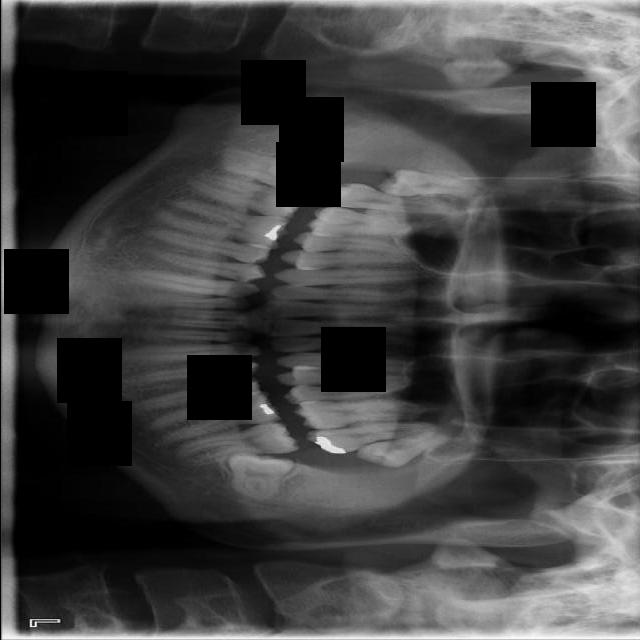3M ESPE Implant: (376, 169, 475, 200)
52: (303, 418, 359, 463), (235, 382, 283, 433), (244, 211, 292, 253)
73: (48, 600, 62, 606)
BioHorizons Implant: (303, 414, 438, 459)
BioLife Implant: (354, 425, 452, 476)
Biomet 3i Implant: (222, 449, 293, 504)
Blue Sky Bio Implant: (173, 418, 301, 469)
Caries: (320, 179, 455, 219)
Implant: (187, 169, 309, 225)
Keystone Dental Implant: (214, 144, 310, 193)
